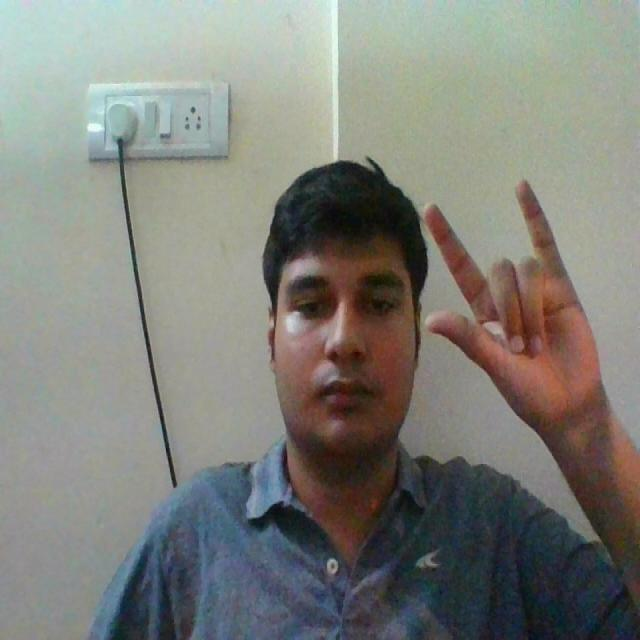I love you: (393, 184, 640, 441)
